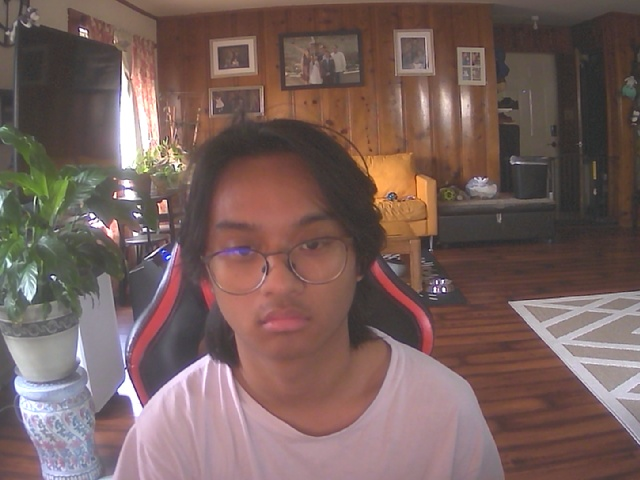neutral: (193, 138, 371, 361)
